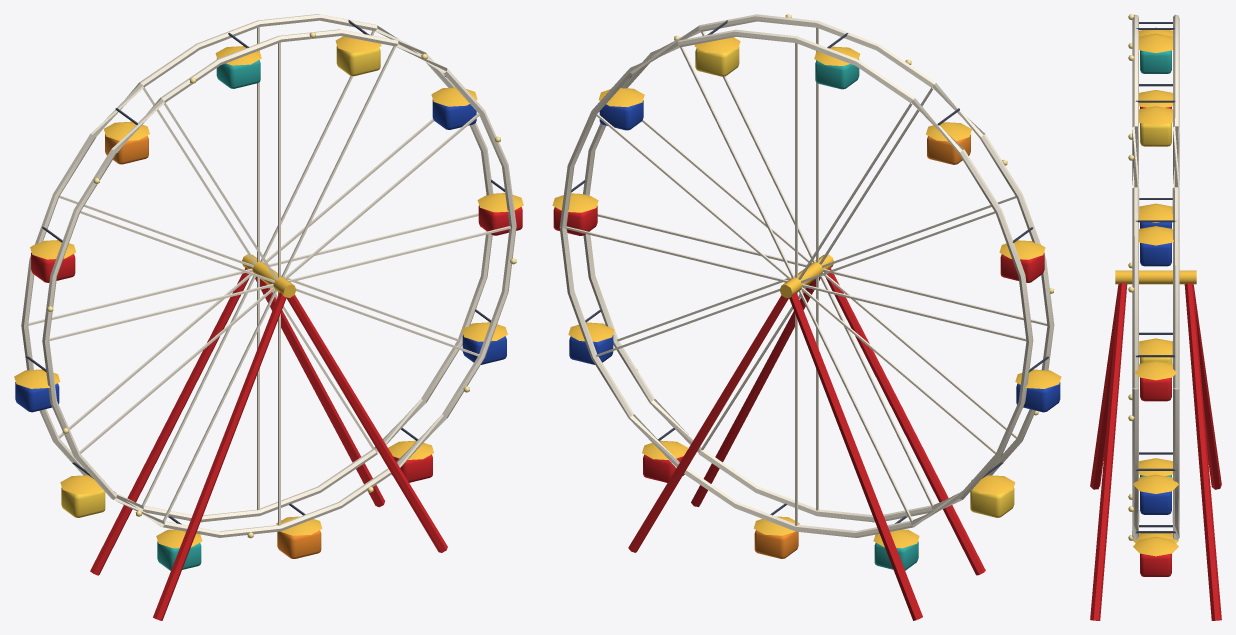
File: FerrisWheel.fbx
3 renders of one model, left to right at view 1: azimuth 30°, elevation 25°; view 2: azimuth 150°, elevation 25°; view 3: azimuth 270°, elevation 25°, orthographic. The views are drawn at different scales.
Visible parts, largest first — view 1: FerrisWheel; view 2: FerrisWheel; view 3: FerrisWheel.
Boxes of the visible parts, <box> form: FerrisWheel: <box>14,14,523,620</box>; FerrisWheel: <box>552,14,1061,620</box>; FerrisWheel: <box>1090,14,1221,620</box>.
Size of the model in its own units: 19.45 by 19.7 by 4.55.
2 materials, 2 textured.
